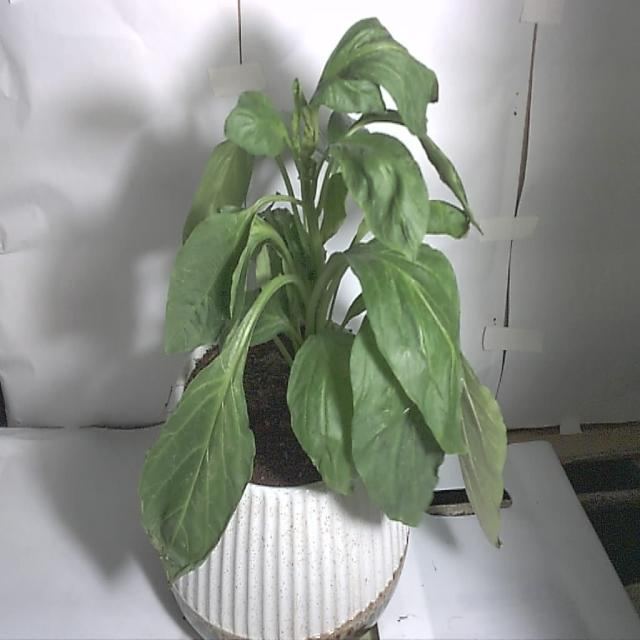Leaf: (138, 318, 254, 581), (341, 225, 469, 462), (328, 123, 435, 264)
